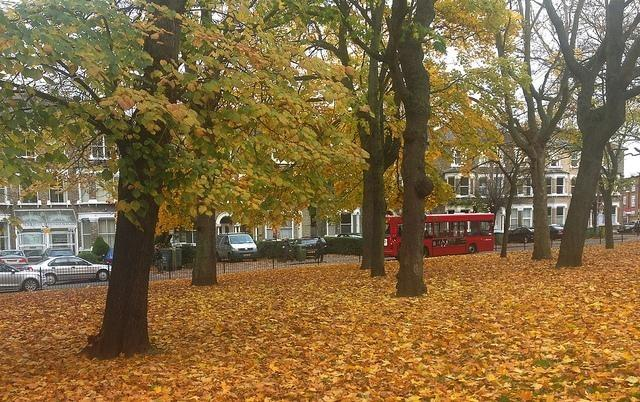bus: (423, 213, 495, 257), (383, 216, 402, 259)
car: (23, 255, 111, 285), (0, 261, 46, 291), (216, 235, 258, 262), (0, 249, 29, 267), (290, 238, 318, 256), (508, 227, 534, 244), (42, 247, 74, 259), (624, 220, 640, 235), (554, 222, 564, 240), (104, 248, 114, 266), (494, 228, 502, 233)
